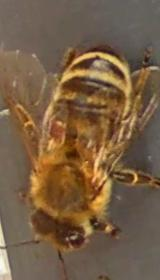varroa_mite: (40, 112, 74, 140)
